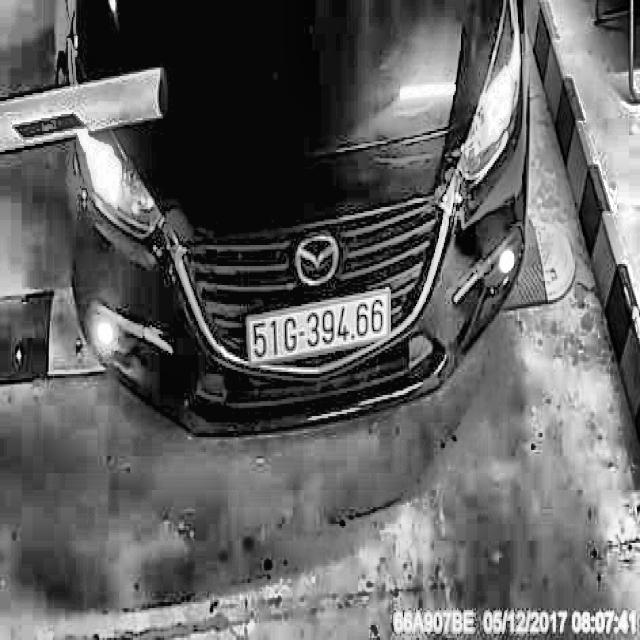plate: (244, 281, 394, 369)
